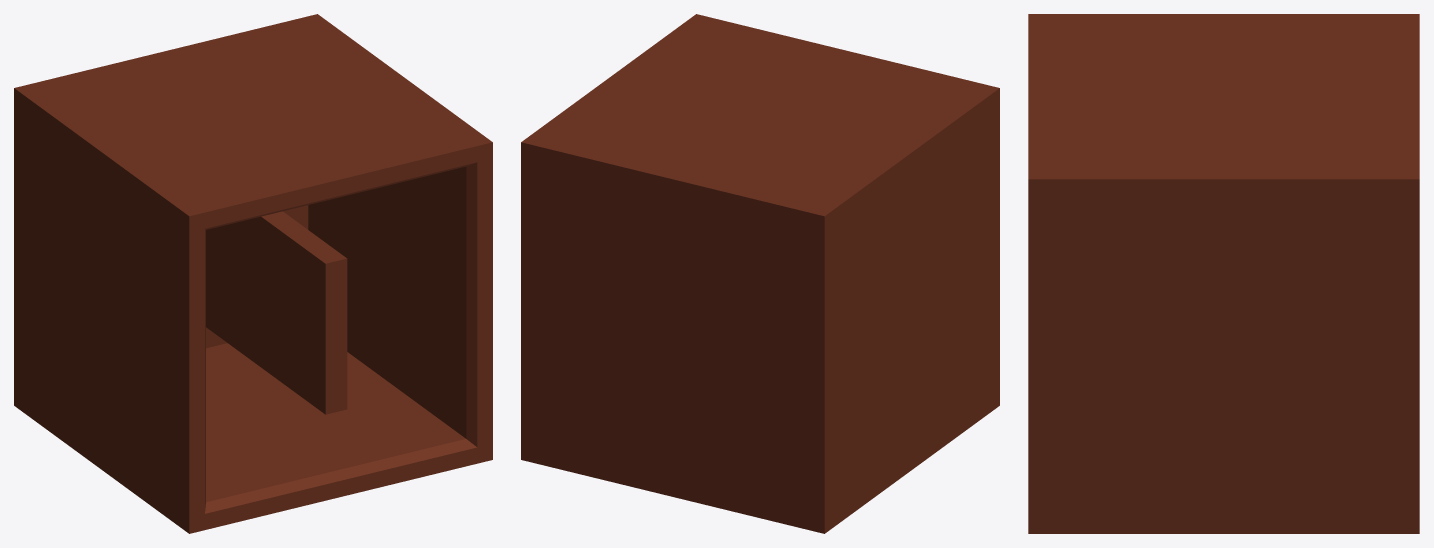
The model's file is Book_Shelves_Mod04.fbx.
The picture shows the model from 3 angles, left to right: view 1: azimuth 30°, elevation 25°; view 2: azimuth 150°, elevation 25°; view 3: azimuth 270°, elevation 25°; orthographic projection. The views are drawn at different scales.
Parts seen in each view (by area): view 1: Book_Shelves_Mod04; view 2: Book_Shelves_Mod04; view 3: Book_Shelves_Mod04.
Part boxes in pixels (x1=…): Book_Shelves_Mod04: x1=14, y1=14, x2=492, y2=533; Book_Shelves_Mod04: x1=521, y1=14, x2=999, y2=533; Book_Shelves_Mod04: x1=1028, y1=14, x2=1419, y2=533.
Bounding box in the file's own units: 70 × 70 × 70.
Materials: 1 (1 with a texture image).
